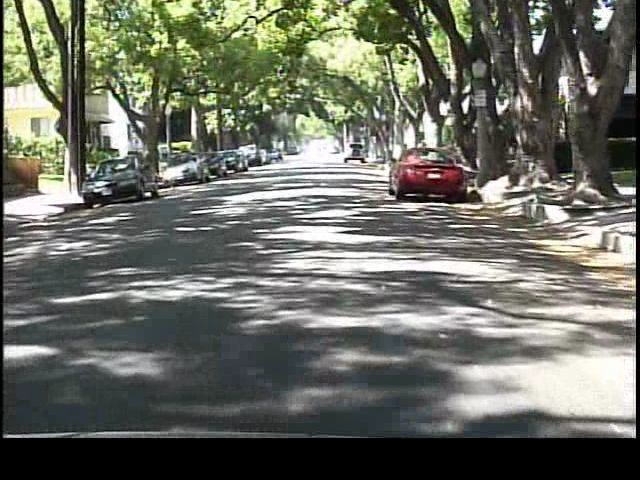person: (144, 144, 164, 184)
